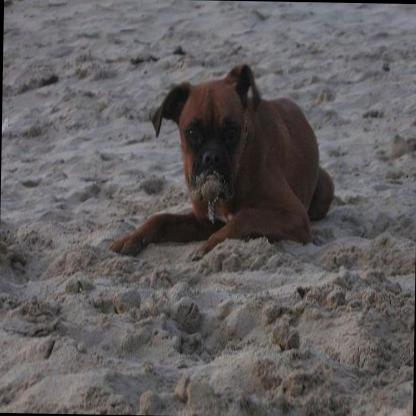boxer: (107, 61, 338, 261)
